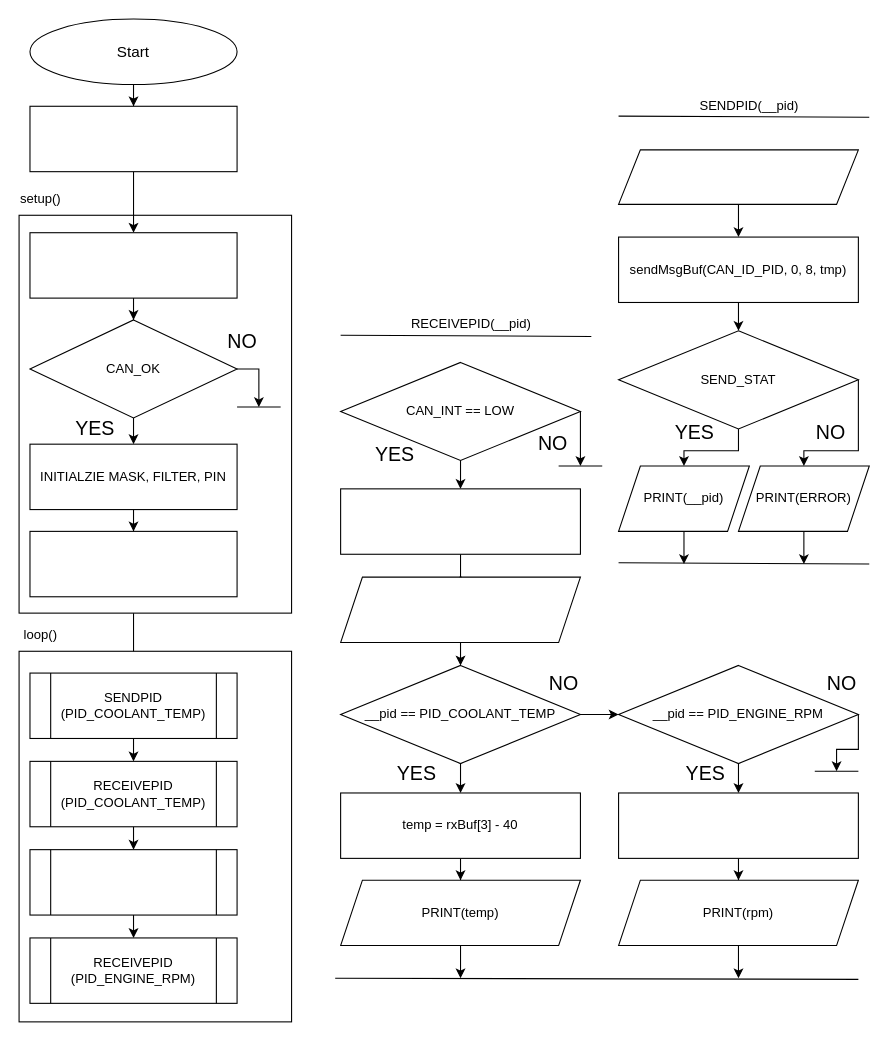
Image size: 889x1041. Some labels were removed from this diagram. Here are the shapes that lost their labels. From the top down, the centre of each, then its label:
At pixel 133 138: "DEFINE PID, CAN_ID_PID, CAN_INT".
At pixel 737 176: "ASSIGNMENT tmp(__pid)".
At pixel 133 265: "Serial.begin(115200) CAN begin (CAN_500KBPS, MCP_16MHZ)".
At pixel 460 521: "readMsgBuf(&rxId, &len, rxBuf)".
At pixel 133 563: "SETMODE (MCP_NORMAL)".
At pixel 460 609: "PRINT(rxId, len, rxBuf)".
At pixel 737 825: "rpm = ((256 * rxBuf[3]) + rxBuf[4]) / 4".
At pixel 133 882: "SENDPID (PID_ENGINE_RPM)".
